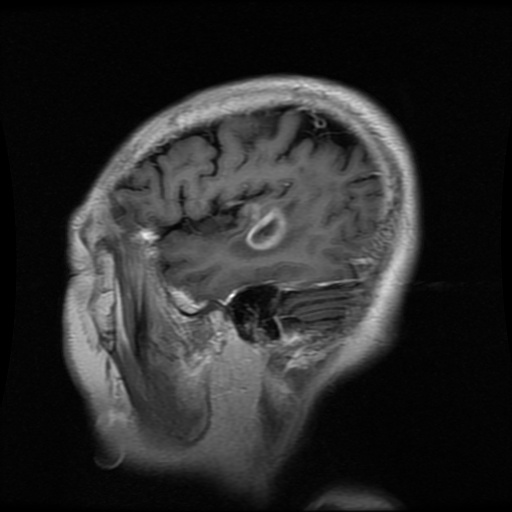glioma: (246, 206, 287, 250)
